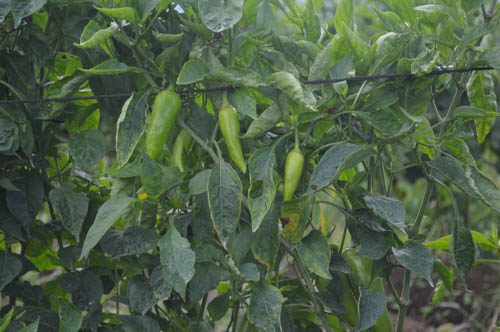ChiliPepper: (148, 92, 180, 159), (219, 107, 245, 172), (280, 149, 306, 207), (173, 129, 194, 173)
